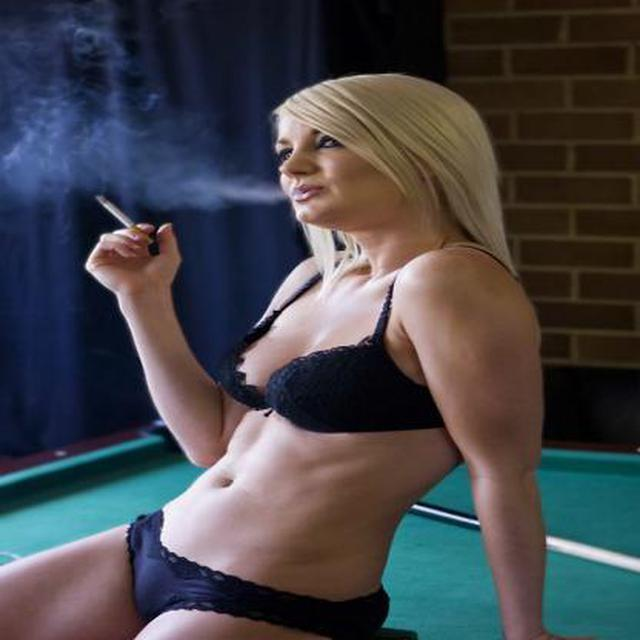smoking: (90, 183, 165, 245)
